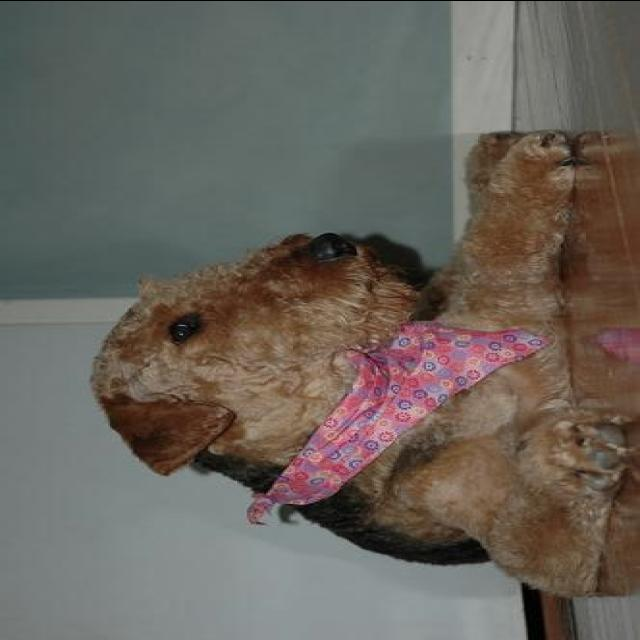airedale: (90, 129, 634, 596)
